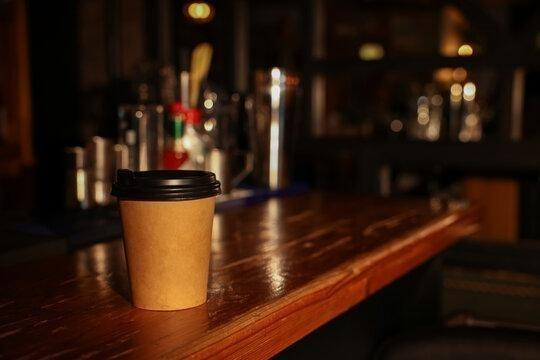cup-disposable: (111, 165, 223, 313)
